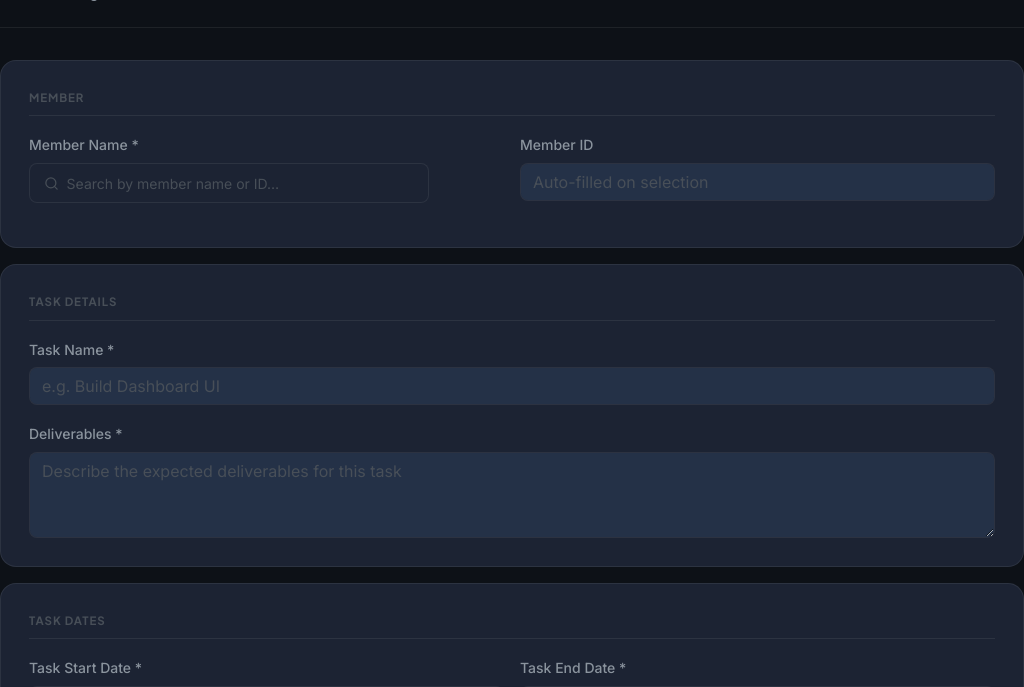
Test: AssignTaskPage › should show validation error for missing deliverables
Click the text box labelled "Deliverables *" at (512, 495), box [29,452,995,538]
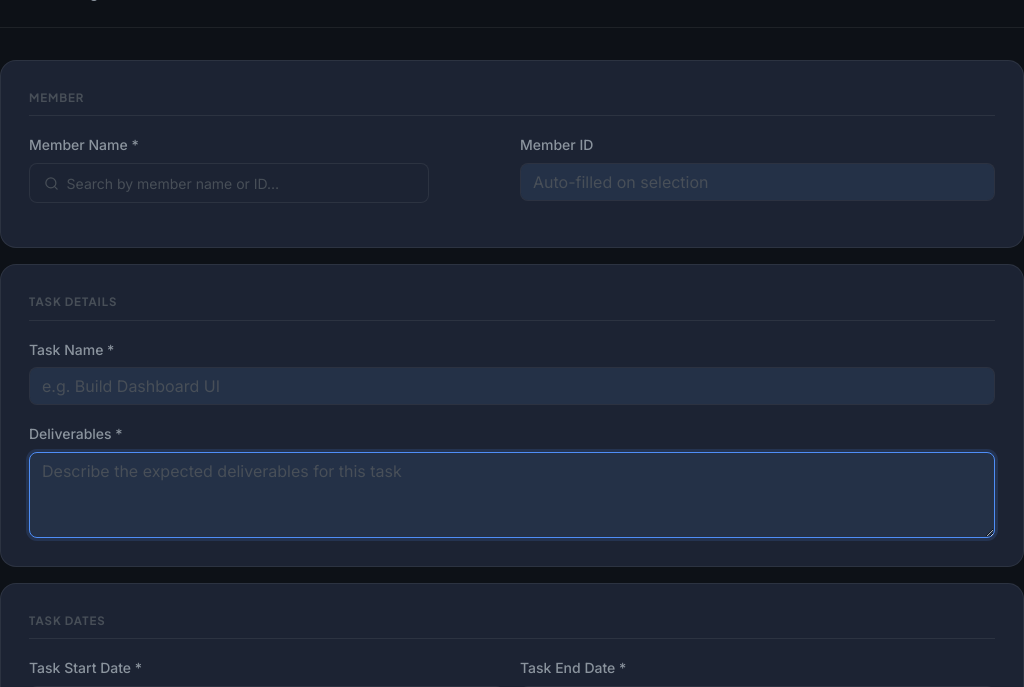
Press Tab
(page scrolled)
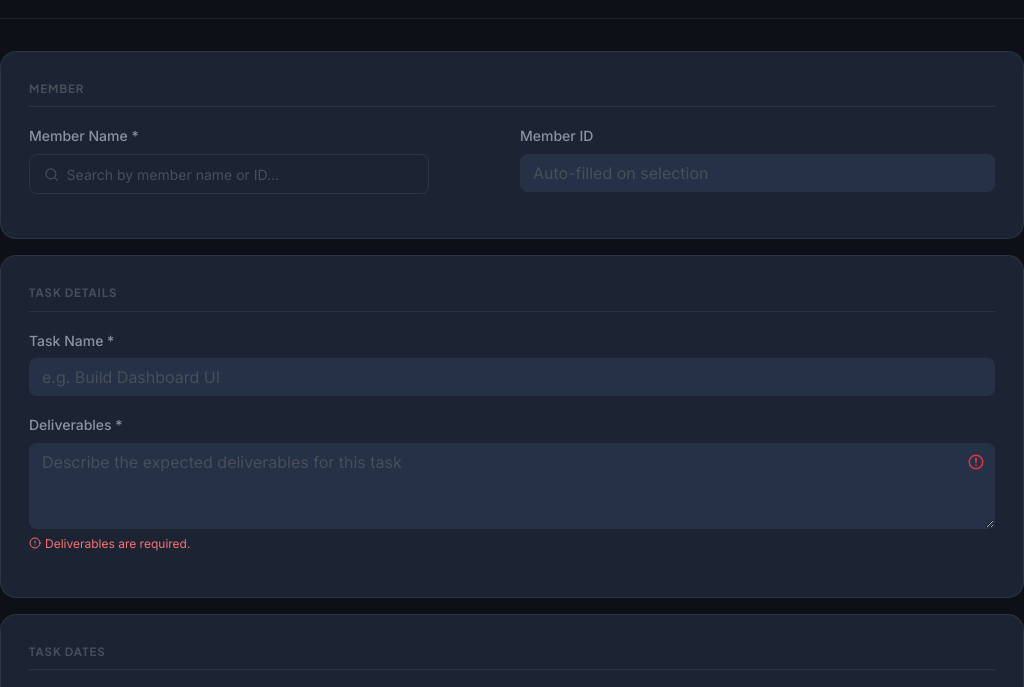
Expected: the text "Deliverables are required." is shown, [29,536,190,551]
